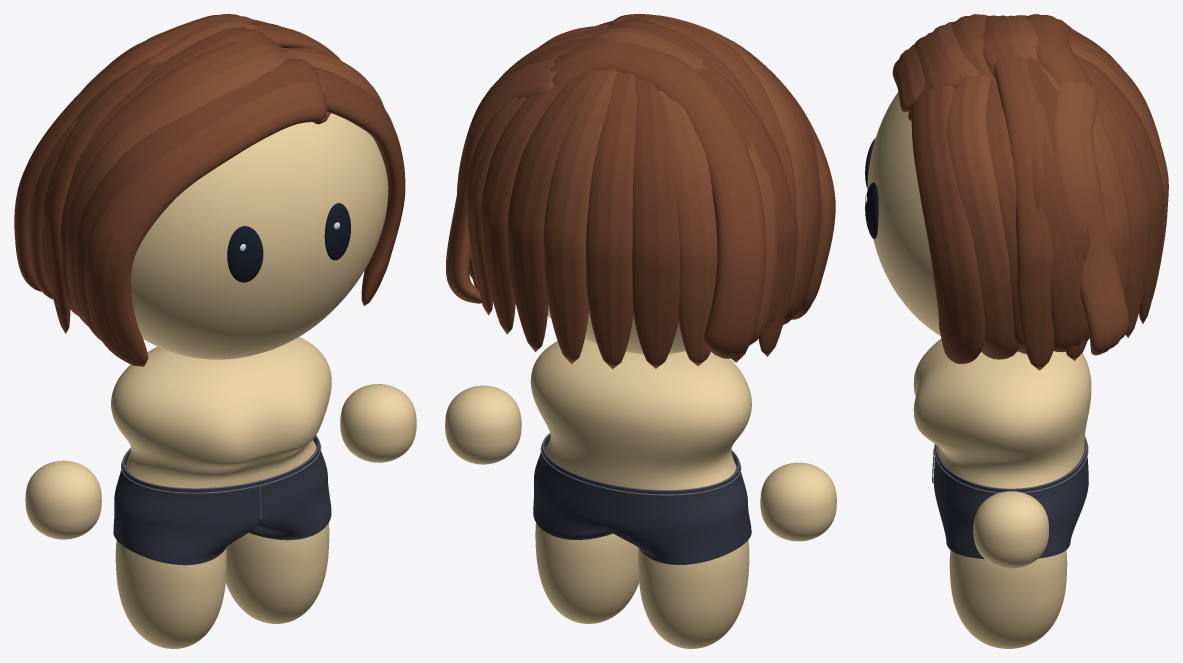
Rendered from Feminine-base.glb.
3 renders of one model, left to right at view 1: azimuth 30°, elevation 25°; view 2: azimuth 150°, elevation 25°; view 3: azimuth 270°, elevation 25°, orthographic.
Visible parts, largest first — view 1: Skin / soft oval head, Skin / rounded torso, Hair / Bob / side sweep 0, Clothing / fixed shorts, Skin / leg blob -1, Skin / leg blob 1, Hair / Bob / side sweep 1, Hair / Bob / side sweep 2, Hair / Bob / side sweep 7, Hair / Bob / side sweep 22, Hair / Bob / side sweep 3, Hair / Bob / side sweep 6 (+8 smaller); view 2: Skin / rounded torso, Hair / Bob / side sweep 6, Clothing / fixed shorts, Hair / Bob / side sweep 18, Hair / Bob / side sweep 19, Hair / Bob / side sweep 17, Hair / Bob / side sweep 16, Hair / Bob / side sweep 20, Skin / leg blob -1, Skin / leg blob 1, Hair / Bob / side sweep 15, Hair / Bob / side sweep 22 (+13 smaller); view 3: Skin / rounded torso, Hair / Bob / side sweep 7, Hair / Bob / side sweep 12, Hair / Bob / side sweep 11, Hair / Bob / side sweep 8, Skin / soft oval head, Skin / leg blob 1, Clothing / fixed shorts, Hair / Bob / side sweep 10, Hair / Bob / side sweep 15, Skin / orb hand 1, Hair / Bob / side sweep 16 (+13 smaller).
Boxes of the visible parts, box(x1,y1,x2,y2) form: Skin / soft oval head: box(130, 113, 388, 359); Skin / rounded torso: box(111, 337, 331, 488); Hair / Bob / side sweep 0: box(85, 81, 330, 366); Clothing / fixed shorts: box(113, 436, 331, 564); Skin / leg blob -1: box(115, 540, 226, 648); Skin / leg blob 1: box(225, 523, 329, 623); Hair / Bob / side sweep 1: box(74, 58, 321, 340); Hair / Bob / side sweep 2: box(65, 51, 294, 325); Hair / Bob / side sweep 7: box(313, 66, 405, 305); Hair / Bob / side sweep 22: box(42, 58, 162, 333); Hair / Bob / side sweep 3: box(60, 39, 285, 315); Hair / Bob / side sweep 6: box(14, 14, 256, 291); Skin / rounded torso: box(530, 339, 751, 489); Hair / Bob / side sweep 6: box(550, 39, 765, 358); Clothing / fixed shorts: box(533, 434, 751, 564); Hair / Bob / side sweep 18: box(586, 71, 636, 369); Hair / Bob / side sweep 19: box(632, 77, 679, 368); Hair / Bob / side sweep 17: box(543, 69, 617, 364); Hair / Bob / side sweep 16: box(507, 70, 598, 351); Hair / Bob / side sweep 20: box(658, 90, 717, 365); Skin / leg blob -1: box(638, 540, 749, 648); Skin / leg blob 1: box(535, 523, 638, 623); Hair / Bob / side sweep 15: box(480, 81, 568, 334); Hair / Bob / side sweep 22: box(696, 61, 796, 356); Skin / rounded torso: box(913, 339, 1091, 488); Hair / Bob / side sweep 7: box(911, 85, 985, 363); Hair / Bob / side sweep 12: box(994, 53, 1057, 370); Hair / Bob / side sweep 11: box(1053, 79, 1128, 355); Hair / Bob / side sweep 8: box(946, 74, 1019, 359); Skin / soft oval head: box(867, 92, 1018, 351); Skin / leg blob 1: box(949, 550, 1067, 648); Clothing / fixed shorts: box(933, 436, 1088, 558); Hair / Bob / side sweep 10: box(1032, 137, 1089, 352); Hair / Bob / side sweep 15: box(1088, 75, 1151, 337); Skin / orb hand 1: box(973, 491, 1048, 568); Hair / Bob / side sweep 16: box(1074, 53, 1164, 323).
Bounding box in the file's own units: 1.23 × 1.86 × 0.8655.
